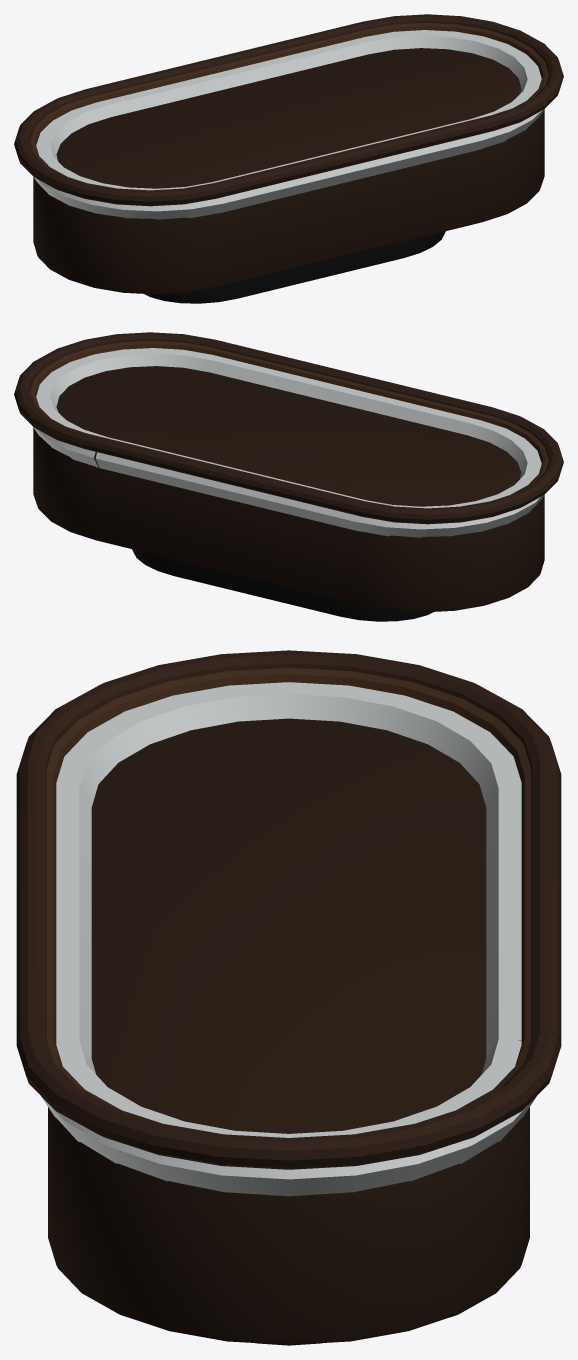
File: tideline_craps.glb
3 views of the same model, one above another, from view 1: azimuth 30°, elevation 25°; view 2: azimuth 150°, elevation 25°; view 3: azimuth 270°, elevation 25° (orthographic). The views are drawn at different scales.
Visible parts, largest first — view 1: tideline_craps; view 2: tideline_craps; view 3: tideline_craps.
Boxes of the visible parts, left/top/right/bottom form: tideline_craps: left=14, top=14, right=563, bottom=303; tideline_craps: left=14, top=332, right=563, bottom=621; tideline_craps: left=16, top=650, right=561, bottom=1345.
Size of the model in its own units: 3.7 by 1.05 by 1.7.
